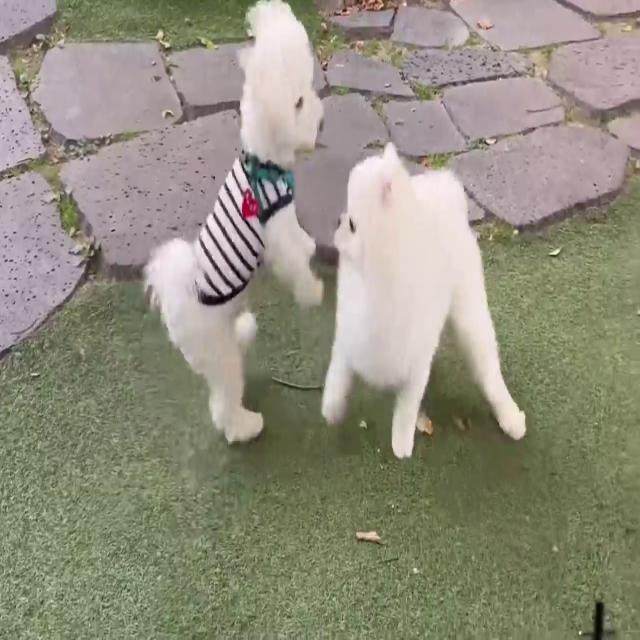Dog: (143, 0, 324, 444), (320, 142, 526, 460)
